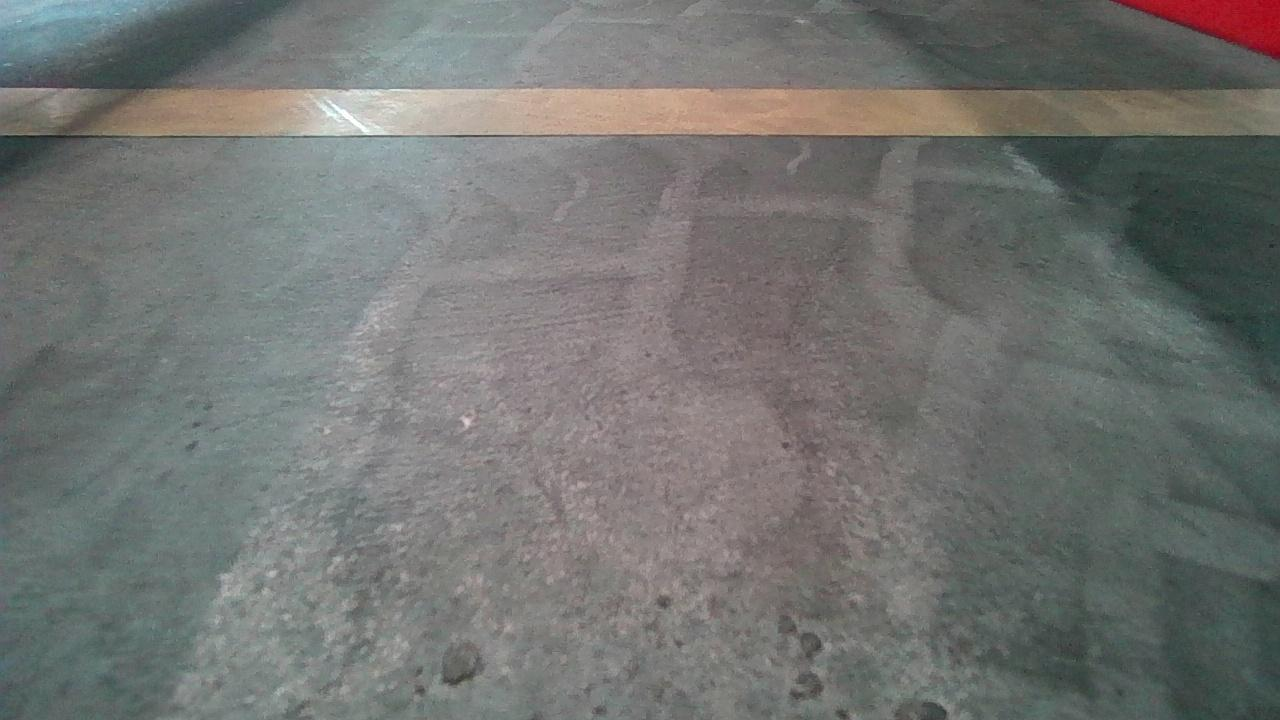yellow_line: (5, 76, 1280, 141)
